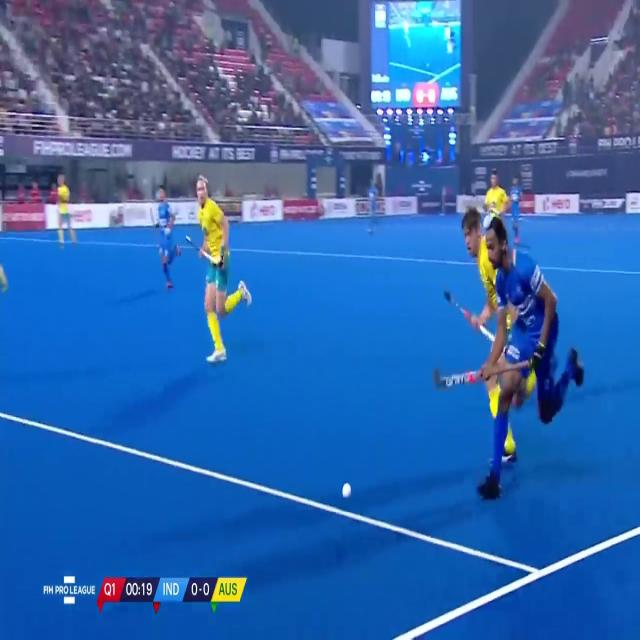ball: (332, 476, 356, 505)
